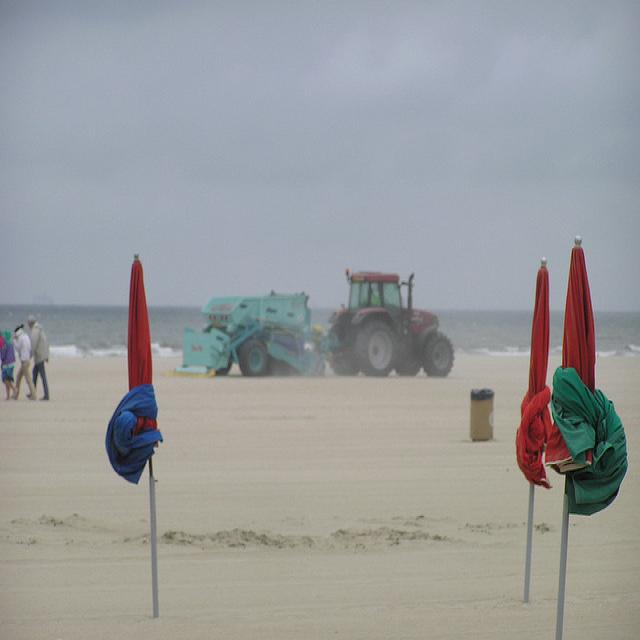Vehicle: (176, 270, 460, 380)
